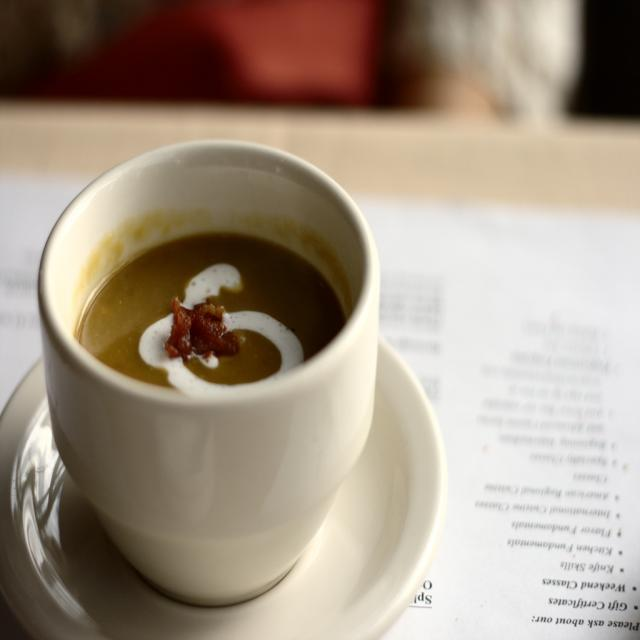Tea: (75, 235, 344, 394)
